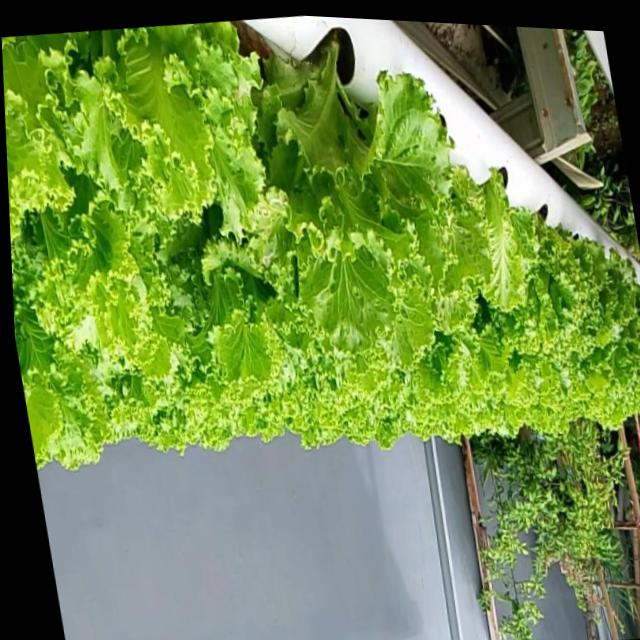Mature: (2, 20, 640, 460), (241, 20, 480, 350), (493, 193, 608, 355)
